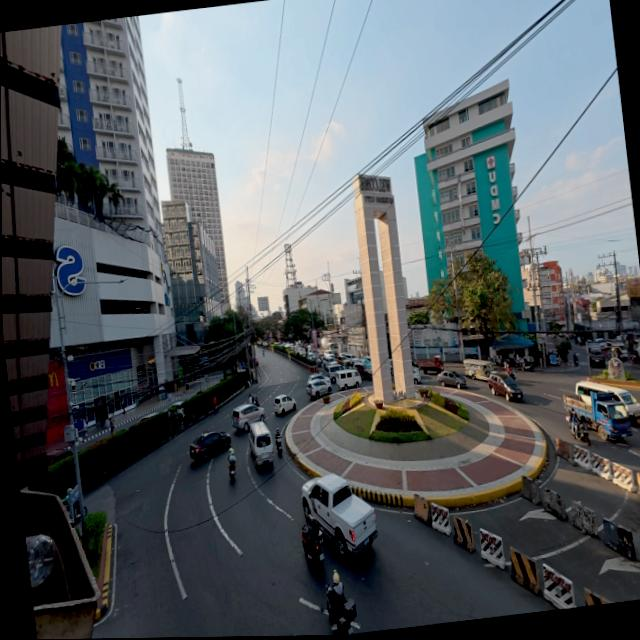Jeepneys: (463, 359, 494, 380)
car: (189, 431, 230, 461), (488, 372, 522, 401), (231, 404, 264, 431), (305, 377, 332, 400), (437, 370, 466, 388), (45, 447, 73, 465), (273, 395, 295, 415), (588, 347, 605, 367), (167, 401, 184, 419), (338, 351, 356, 368), (354, 363, 371, 380), (611, 343, 627, 360), (137, 412, 158, 423), (307, 373, 326, 381), (412, 367, 420, 384), (362, 357, 371, 367), (256, 358, 258, 365)
motorcycle: (326, 587, 356, 634), (301, 525, 323, 569), (566, 414, 589, 445), (504, 366, 516, 381), (227, 462, 235, 482), (274, 435, 281, 456), (520, 360, 533, 371), (572, 352, 579, 367), (62, 497, 68, 514), (262, 350, 263, 356)
trucks: (301, 474, 377, 558), (563, 382, 631, 440), (418, 357, 443, 375)
vans: (575, 381, 639, 423), (248, 422, 272, 467), (335, 369, 361, 390), (325, 362, 341, 383)
